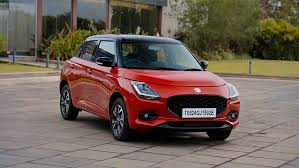Swift: (57, 32, 242, 141)
